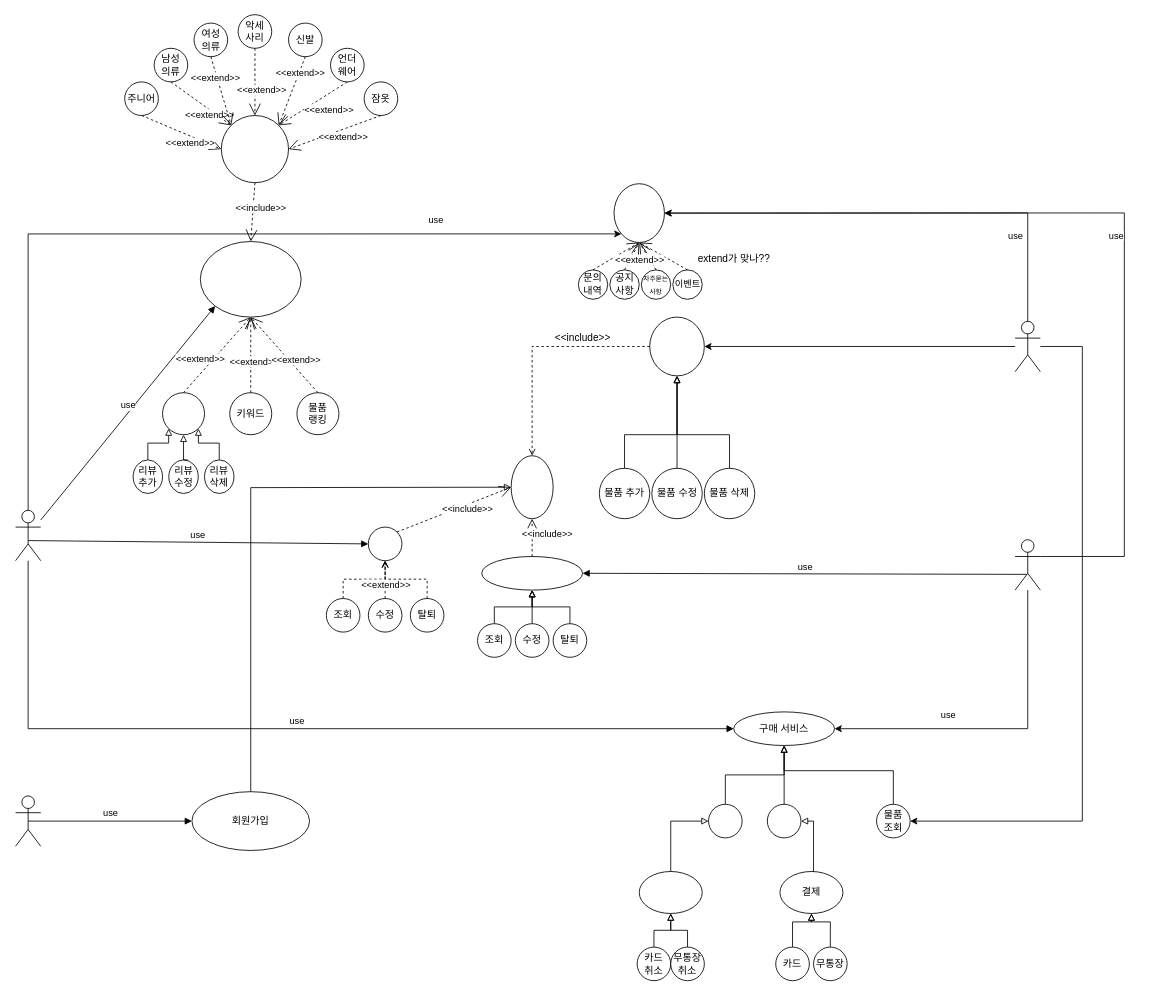
This 1164x995 diagram has some shape labels left out. The centre of each missing label's shape, as x and y in pixels:
"결제 취소" goes at (x=670, y=892).
"고객센터" goes at (x=638, y=213).
"관리자" goes at (x=1027, y=564).
"구매" goes at (x=783, y=820).
"구매 취소" goes at (x=725, y=820).
"나의 정보" goes at (x=385, y=543).
"로그인" goes at (x=531, y=487).
"물품 관리" goes at (x=676, y=346).
"물품 리뷰" goes at (x=183, y=413).
"물품조회" goes at (x=250, y=279).
"비회원" goes at (x=28, y=820).
"전체회원관리" goes at (x=532, y=573).
"직원" goes at (x=1027, y=346).
"카테고리" goes at (x=254, y=149).
"회원" goes at (x=28, y=535).
